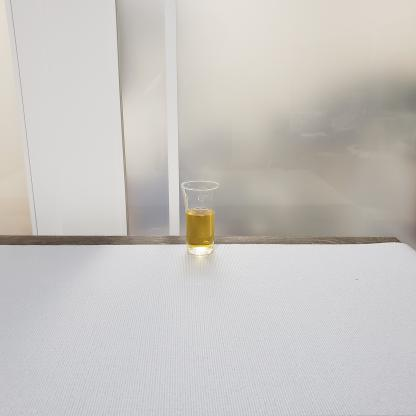glass: (178, 176, 231, 258)
